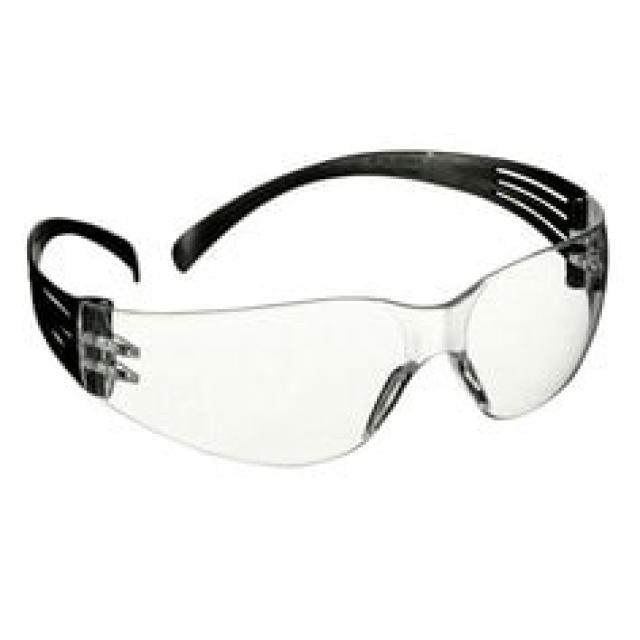Protective Glasses: (6, 134, 622, 464)
